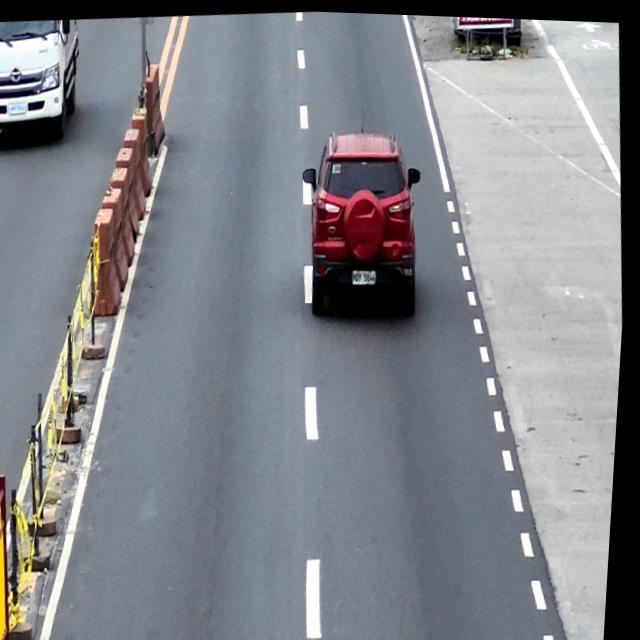Car: (297, 125, 434, 319)
License-Plate: (354, 265, 380, 282), (9, 101, 27, 113)
Truck: (0, 16, 86, 149)
